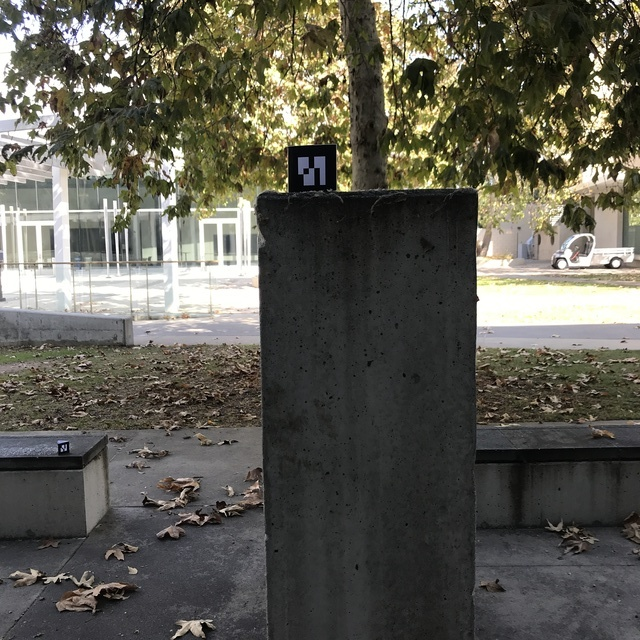ARTag: (287, 144, 337, 194)
